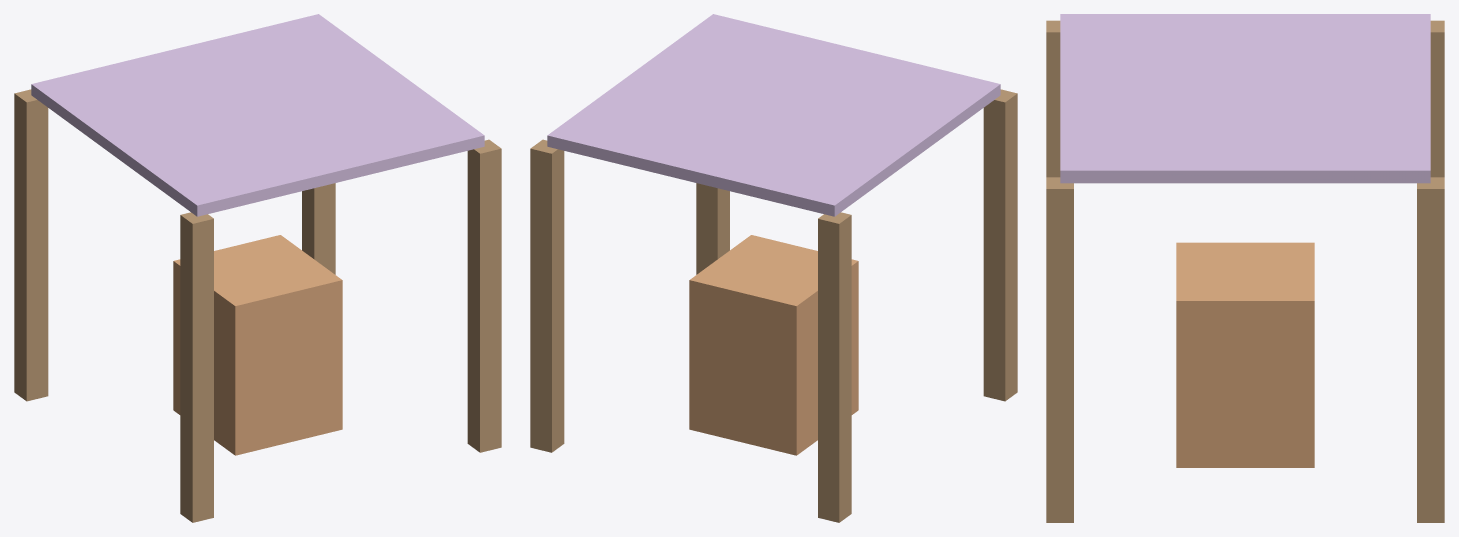
File: Prop_Water_AMF_RainCatcher_V7.glb
The picture shows the model from 3 angles, left to right: view 1: azimuth 30°, elevation 25°; view 2: azimuth 150°, elevation 25°; view 3: azimuth 270°, elevation 25°; orthographic projection. The views are drawn at different scales.
Parts seen in each view (by area): view 1: Prop_Water_AMF_RainCatcher_V7; view 2: Prop_Water_AMF_RainCatcher_V7; view 3: Prop_Water_AMF_RainCatcher_V7.
Part boxes in pixels (<box>): Prop_Water_AMF_RainCatcher_V7: <box>14,14,501,522</box>; Prop_Water_AMF_RainCatcher_V7: <box>530,14,1017,522</box>; Prop_Water_AMF_RainCatcher_V7: <box>1046,14,1444,522</box>.
Bounding box in the file's own units: 1.73 × 1.66 × 1.73.
